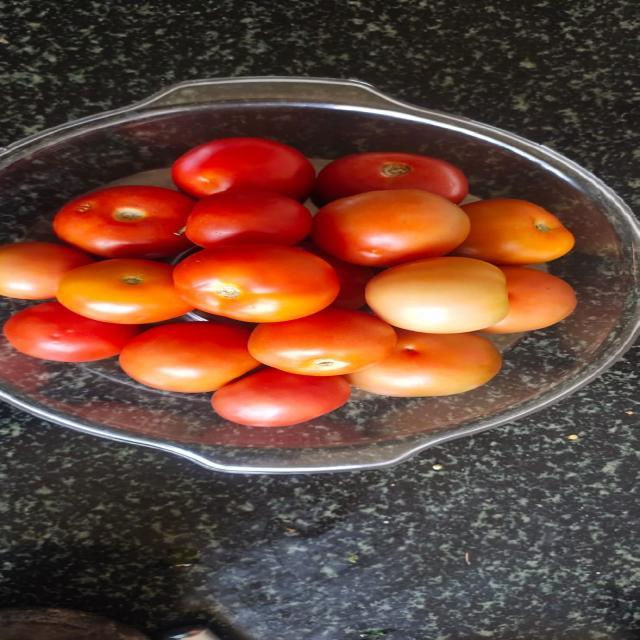Tomato: (172, 244, 339, 323), (310, 189, 469, 267), (365, 256, 509, 334), (343, 328, 501, 397), (52, 185, 194, 259), (117, 322, 260, 393), (247, 308, 396, 376), (54, 259, 193, 324), (171, 137, 315, 199), (449, 198, 574, 266), (2, 302, 140, 362), (210, 368, 350, 427), (312, 152, 468, 204), (183, 189, 311, 248), (477, 266, 577, 334), (0, 242, 92, 299)
